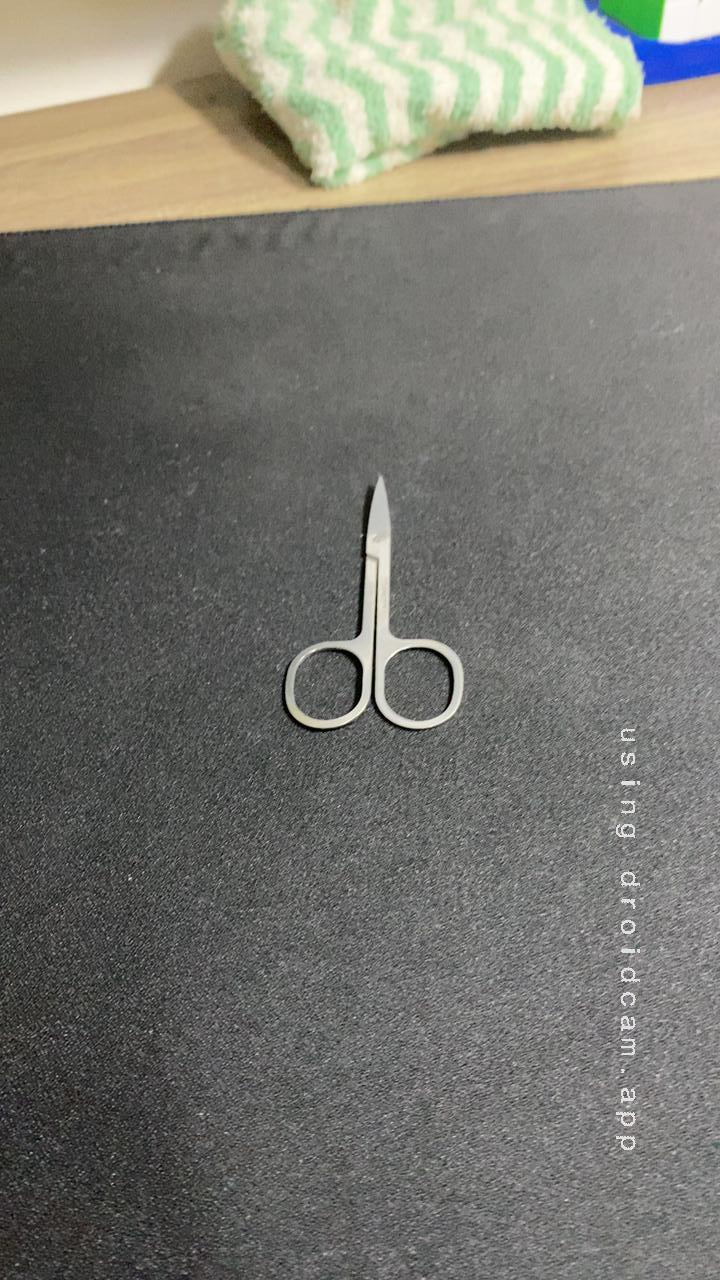scissor: (256, 456, 486, 747)
